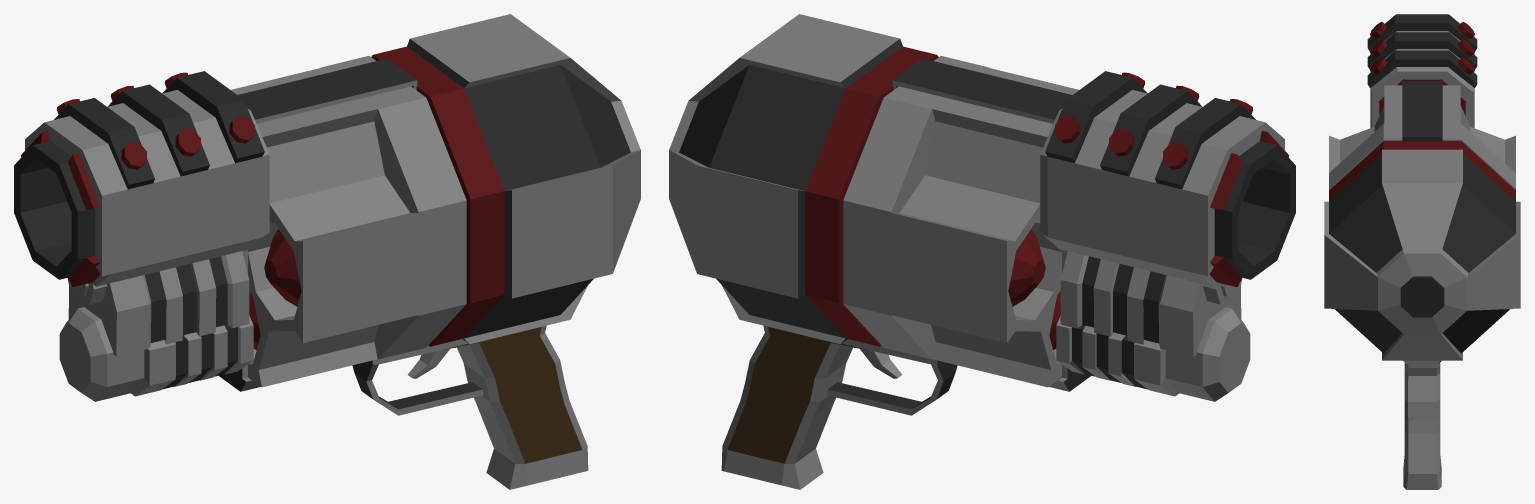
Rendered from RLG.fbx.
The picture shows the model from 3 angles, left to right: view 1: azimuth 30°, elevation 25°; view 2: azimuth 150°, elevation 25°; view 3: azimuth 270°, elevation 25°; orthographic projection. The views are drawn at different scales.
Parts seen in each view (by area): view 1: Body, Chamber, Rockets; view 2: Body, Chamber, Rockets; view 3: Body, Chamber.
Part boxes in pixels (left/top/right/bottom): Body: left=14, top=14, right=640, bottom=489; Chamber: left=231, top=56, right=466, bottom=387; Rockets: left=249, top=229, right=301, bottom=349; Body: left=669, top=14, right=1295, bottom=489; Chamber: left=843, top=56, right=1078, bottom=387; Rockets: left=1008, top=229, right=1060, bottom=349; Body: left=1324, top=14, right=1520, bottom=489; Chamber: left=1329, top=85, right=1515, bottom=189.
Size of the model in its own units: 62.84 by 48.43 by 27.42.
